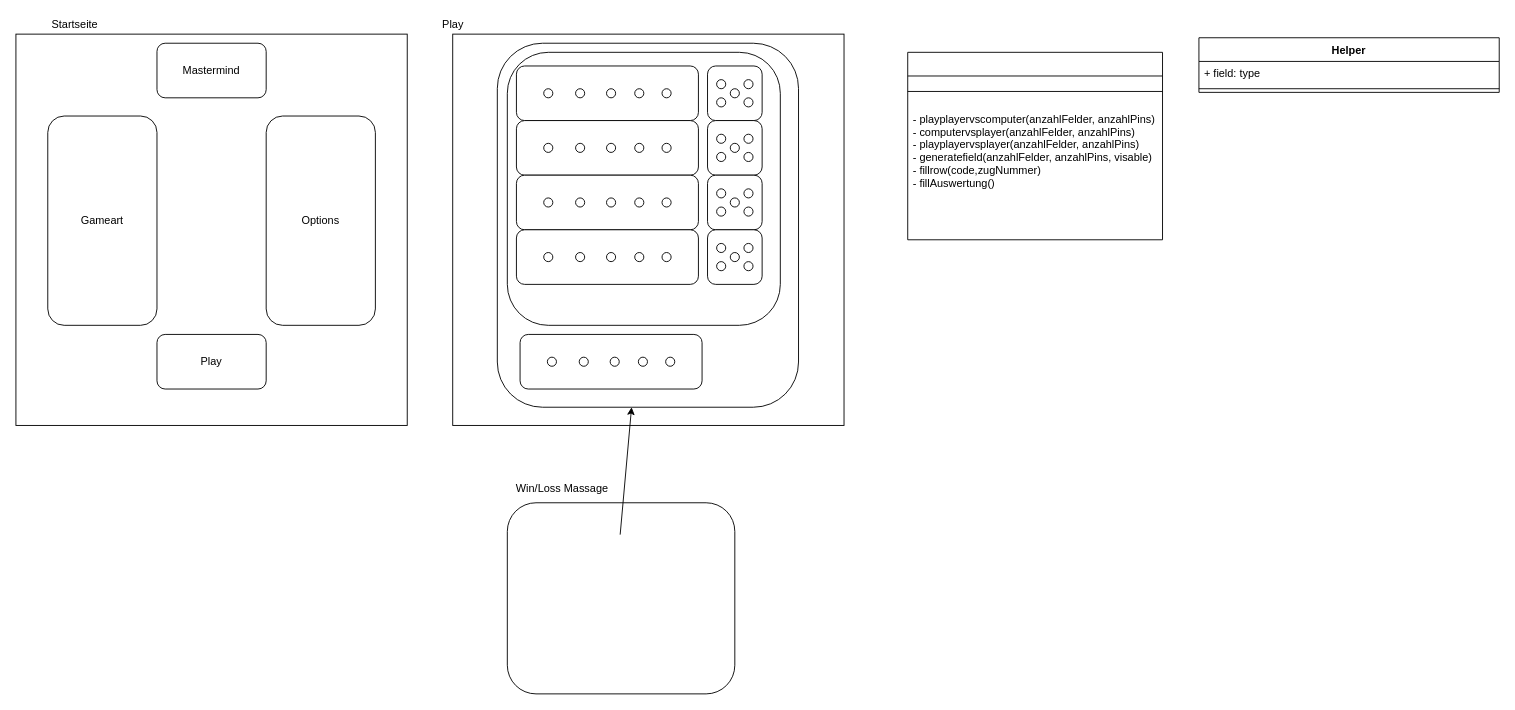
This 1515x710 diagram has some shape labels left out. Here are the shapes that lost their labels. From the top down, the box of each, then its label:
(907, 51, 1163, 240): Main(GUI)
(506, 502, 735, 694): Glückwunsch oder auch nicht sie habe es in 3 Versuchen geschaft
